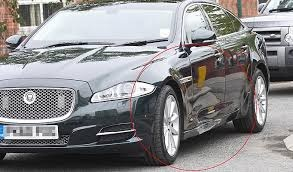Dent: (181, 96, 235, 137)
